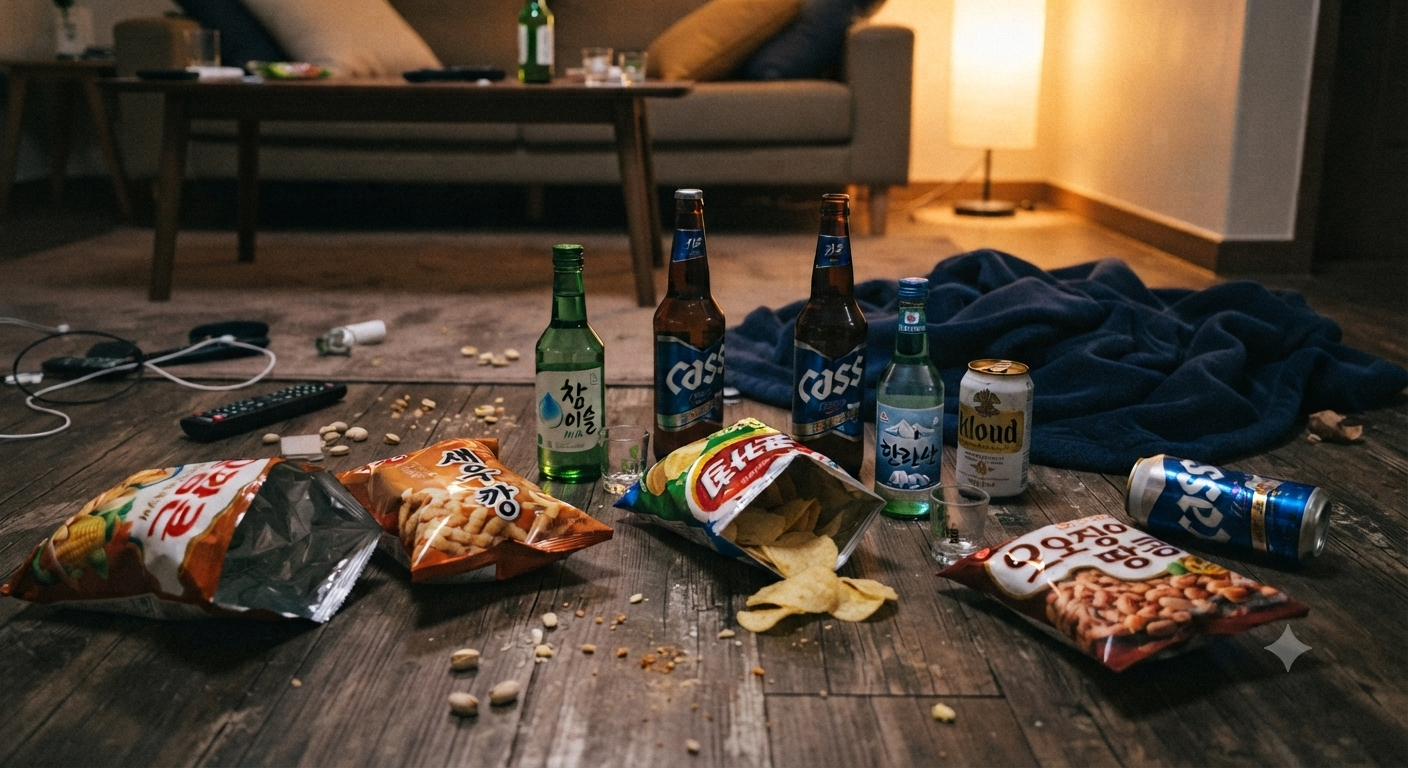beer-bottle: (591, 169, 732, 553), (732, 161, 873, 545)
beer-can: (1091, 403, 1302, 595), (1014, 269, 1155, 499)
soju-bottle: (451, 211, 591, 557), (887, 230, 1000, 538)
